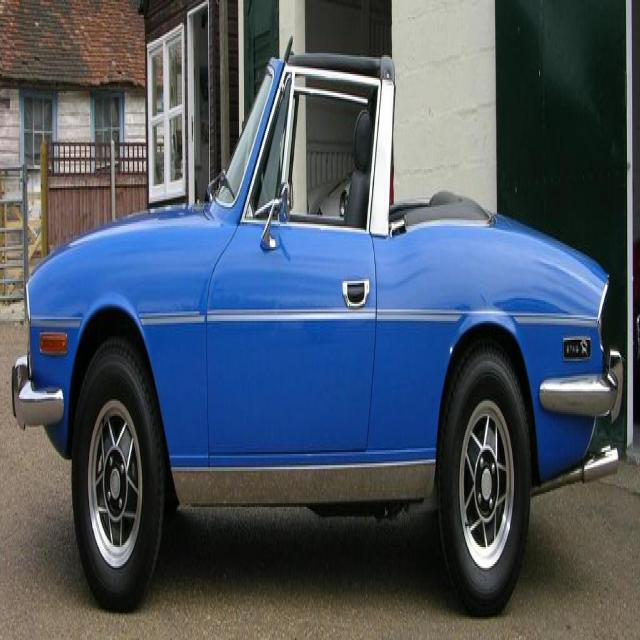car: (6, 29, 631, 636)
